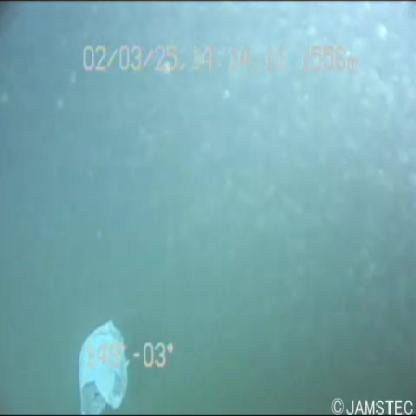Rác: (59, 314, 135, 416)
